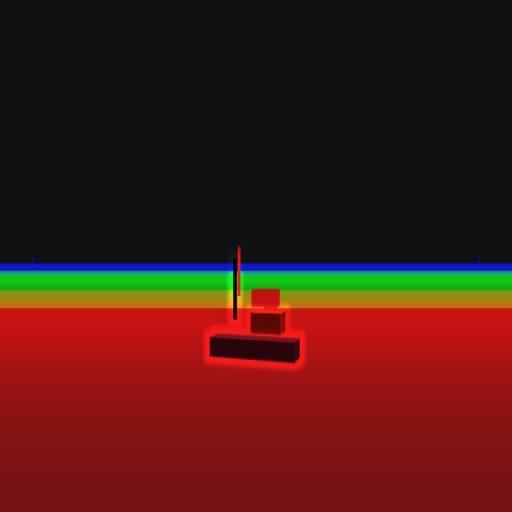fishing_boat: (212, 262, 302, 364)
